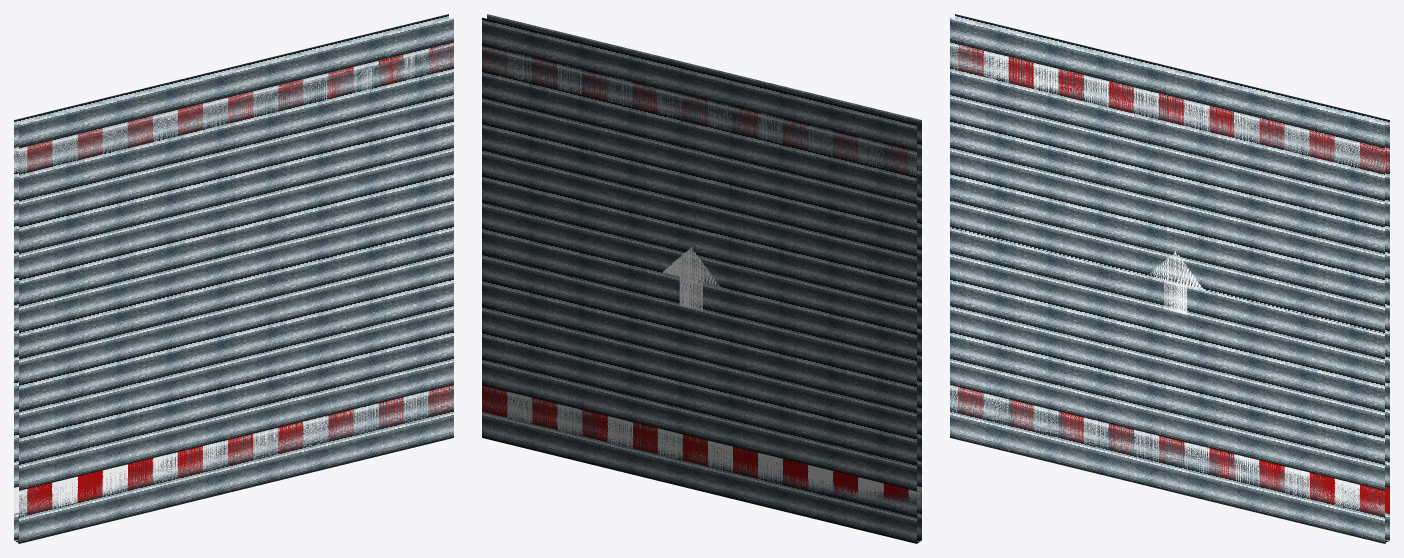
The model's file is Pdoor_roller4Z.obj.
The picture shows the model from 3 angles, left to right: view 1: azimuth 30°, elevation 25°; view 2: azimuth 150°, elevation 25°; view 3: azimuth 330°, elevation 25°; orthographic projection.
Size of the model in its own units: 1516 by 1400 by 30.
4 materials, 4 textured.
